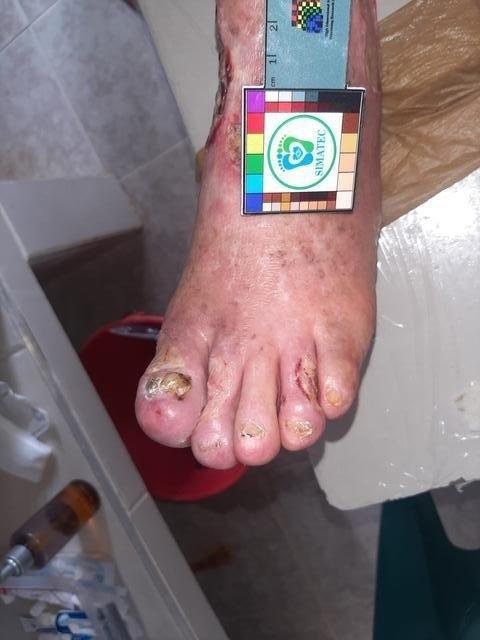wound: (207, 24, 235, 152), (199, 356, 234, 424), (142, 328, 185, 378), (295, 352, 322, 409), (225, 117, 241, 166)
